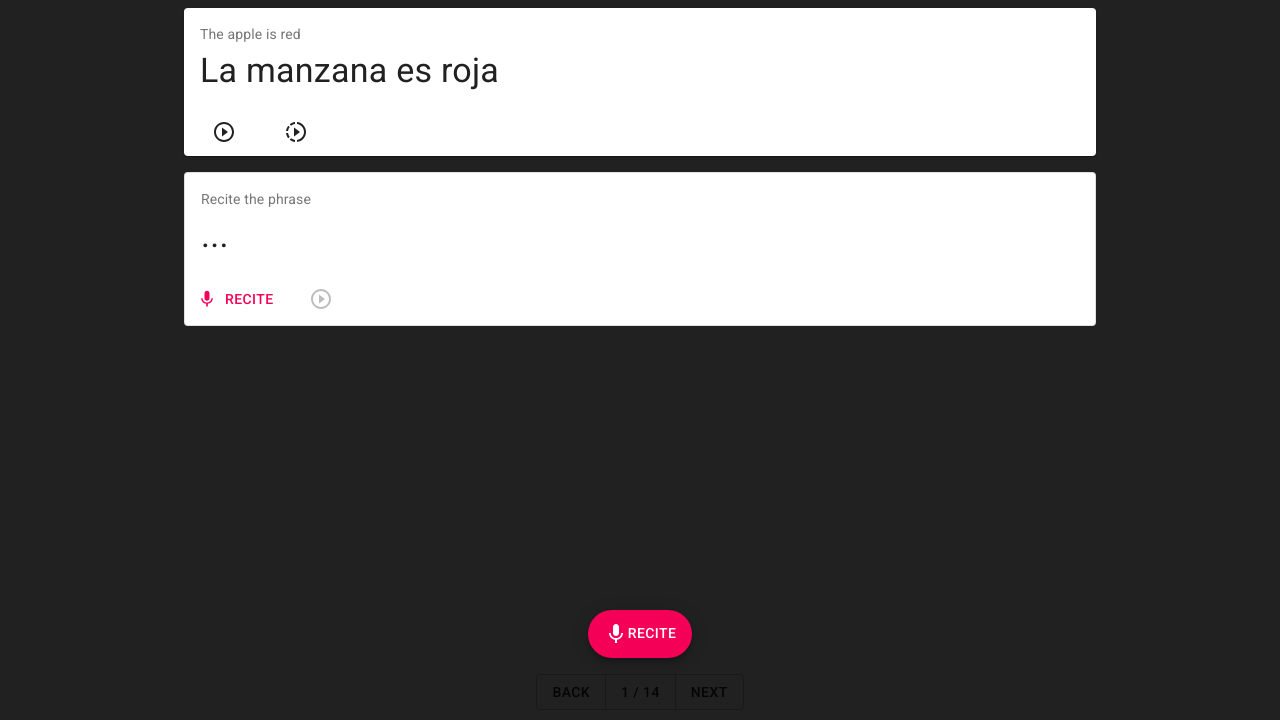
Test: default › navigation
Expected: the text "Next" is shown, left=691, top=680, right=728, bottom=704
Click the button "Next" at (709,692), box left=675, top=674, right=744, bottom=710
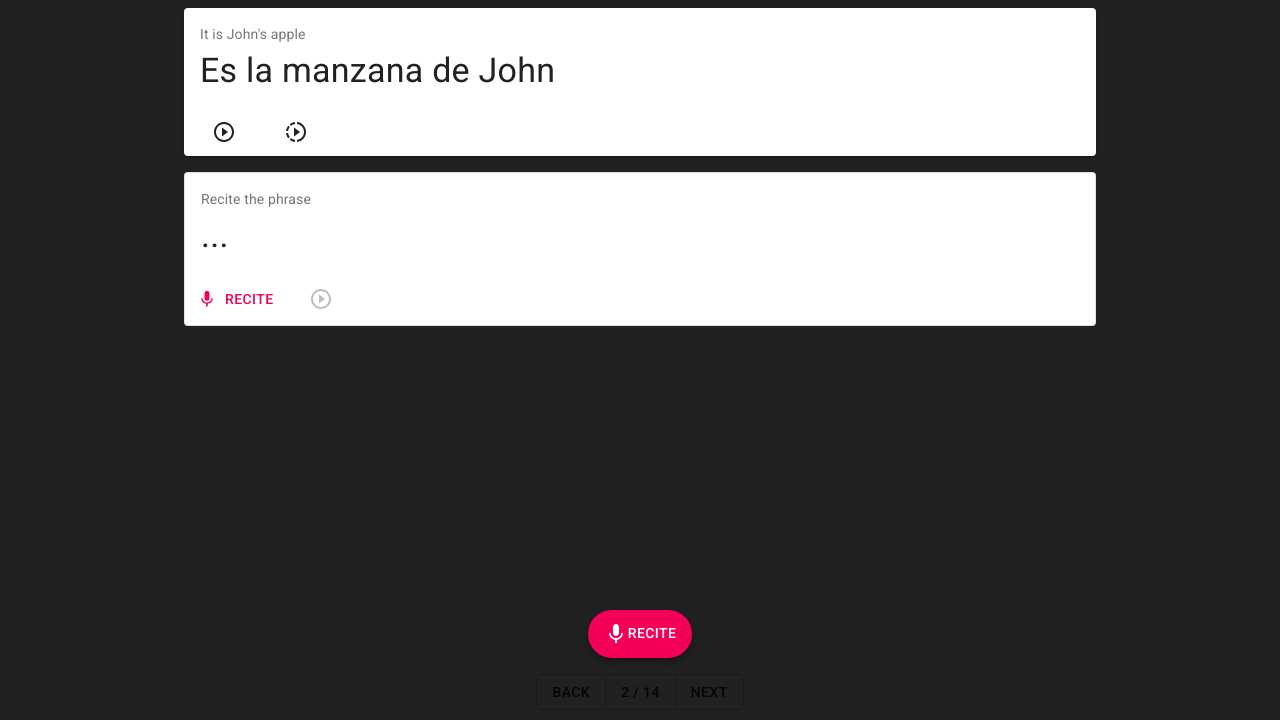
Expected: the text "It is John's apple" is shown, left=200, top=26, right=306, bottom=42
